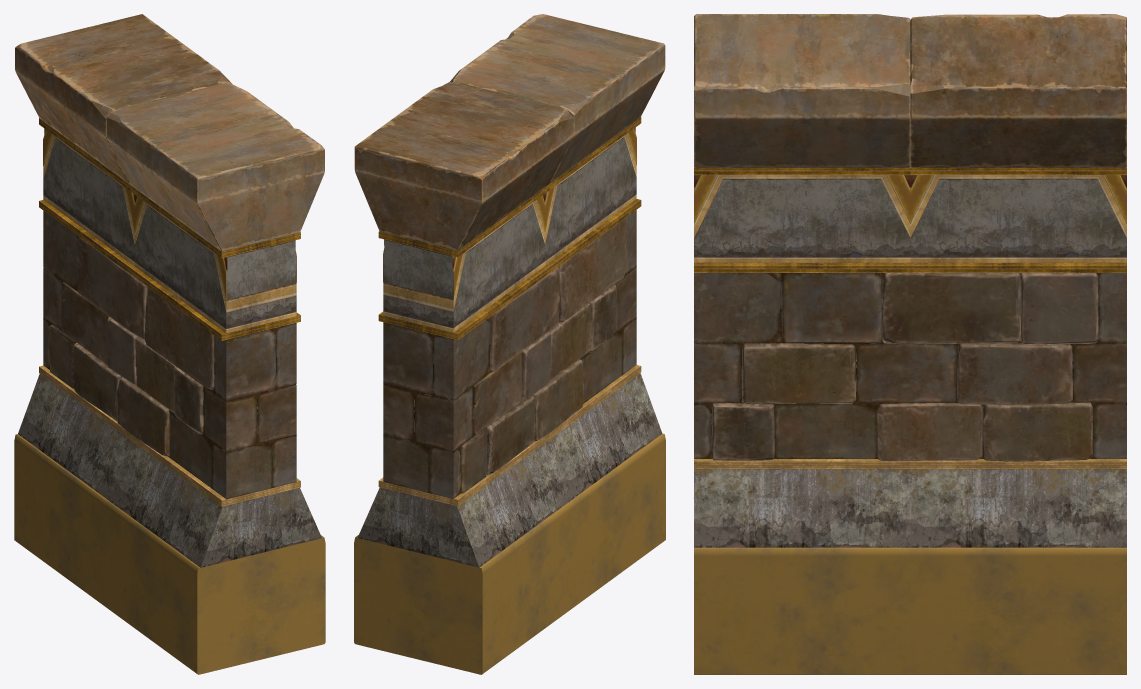
The picture shows the model from 3 angles, left to right: view 1: azimuth 30°, elevation 25°; view 2: azimuth 150°, elevation 25°; view 3: azimuth 270°, elevation 25°; orthographic projection. The views are drawn at different scales.
Parts seen in each view (by area): view 1: SM_DK_10m_Wall_02_LOD0; view 2: SM_DK_10m_Wall_02_LOD0; view 3: SM_DK_10m_Wall_02_LOD0.
Part boxes in pixels (<box>): SM_DK_10m_Wall_02_LOD0: <box>14,14,325,674</box>; SM_DK_10m_Wall_02_LOD0: <box>354,14,665,674</box>; SM_DK_10m_Wall_02_LOD0: <box>694,14,1126,674</box>.
Size of the model in its own units: 3.24 by 12 by 8.
6 materials, 6 textured.
